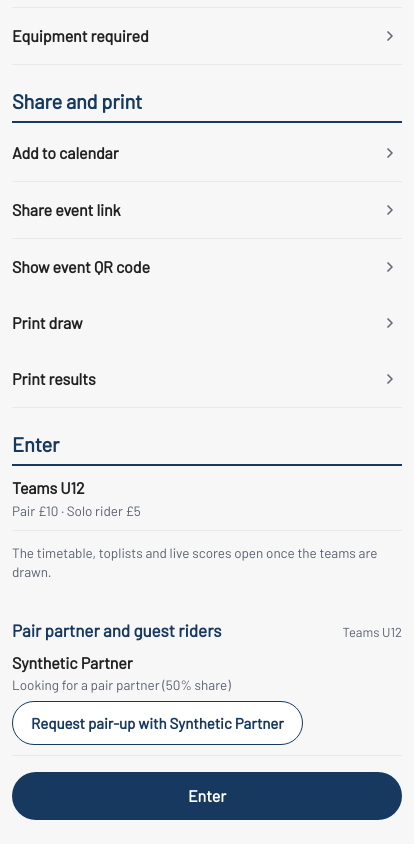
it: DetailsTab matchmaker › offers pair requests only from the signed-in rider’s own seeking entry
The width and height of the screenshot is (414, 844).
(page scrolled)
Click the button "Request pair-up with Synthetic Partner": (157,723) x1=12 y1=701 x2=303 y2=745
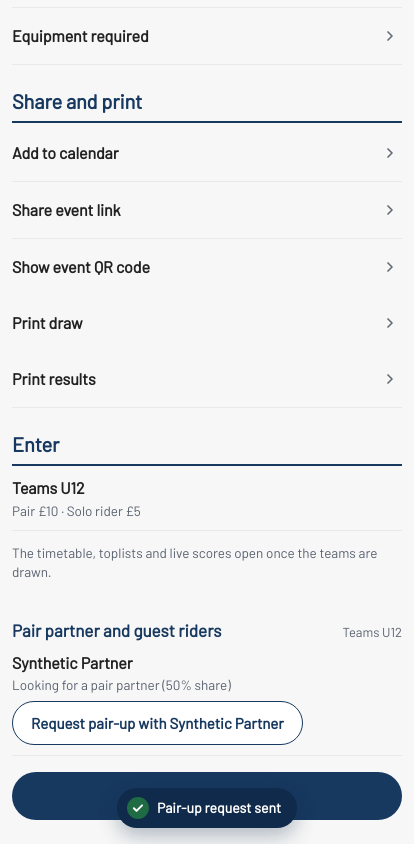
Expected: the message reads "Pair-up request sent", x1=157 y1=799 x2=281 y2=816
